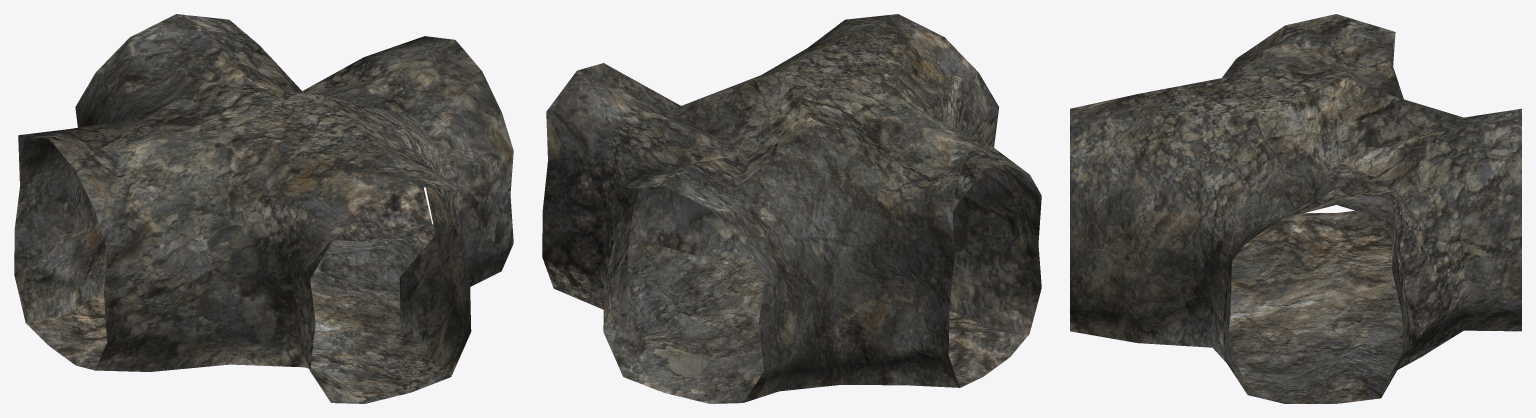
The model's file is cave_piece_05.glb.
3 views of the same model, side by side, from view 1: azimuth 30°, elevation 25°; view 2: azimuth 150°, elevation 25°; view 3: azimuth 270°, elevation 25° (orthographic). The views are drawn at different scales.
Parts seen in each view (by area): view 1: mine_05_mine_0; view 2: mine_05_mine_0; view 3: mine_05_mine_0.
Boxes of the visible parts, left/top/right/bottom form: mine_05_mine_0: left=14, top=14, right=513, bottom=403; mine_05_mine_0: left=542, top=14, right=1041, bottom=403; mine_05_mine_0: left=1070, top=14, right=1521, bottom=403.
Size of the model in its own units: 8.93 by 4.73 by 8.93.
Materials: 1 (1 with a texture image).
